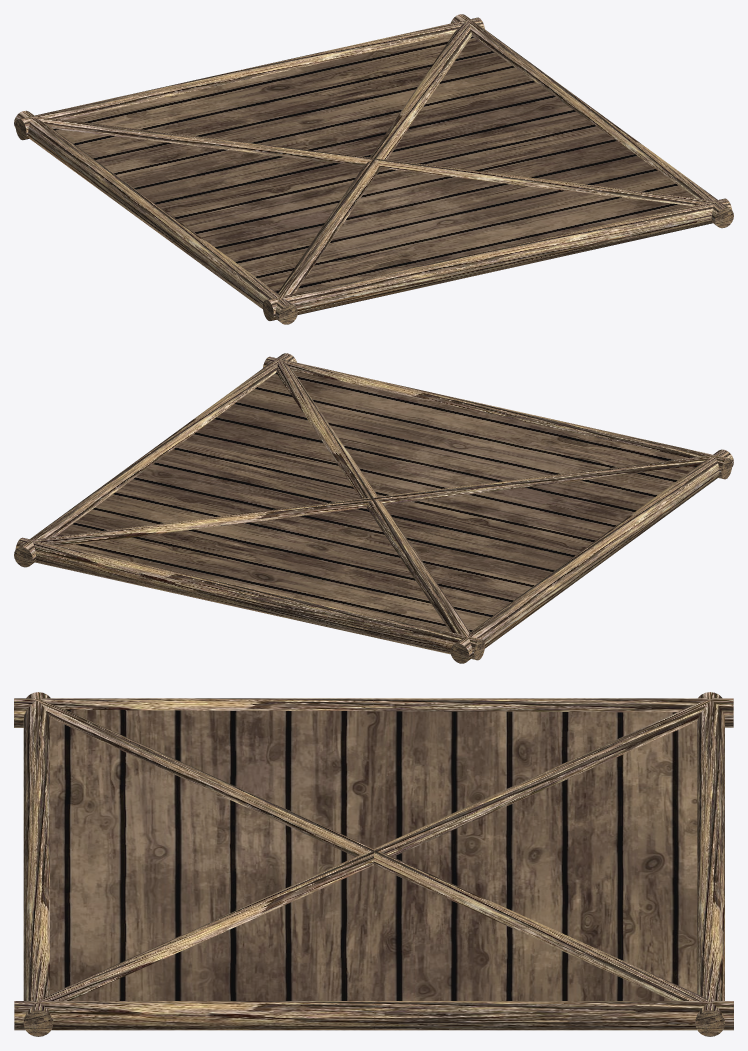
File: wooden roof.gltf
3 renders of one model, top to bottom at view 1: azimuth 30°, elevation 25°; view 2: azimuth 150°, elevation 25°; view 3: azimuth 270°, elevation 25°, orthographic. The views are drawn at different scales.
Parts seen in each view (by area): view 1: Küp, Silindir2 (×3), Silindir3, Silindir1, Silindir; view 2: Küp, Silindir2 (×3), Silindir1, Silindir3, Silindir; view 3: Küp, Silindir2 (×3), Silindir, Silindir3, Silindir1.
Part boxes in pixels (x1,y1,x2,y2): Küp: (53, 34, 695, 293); Silindir2 (×3): (33, 21, 731, 320); Silindir3: (14, 110, 297, 324); Silindir1: (15, 17, 484, 140); Silindir: (451, 14, 733, 228); Küp: (56, 370, 697, 632); Silindir2 (×3): (33, 356, 732, 636); Silindir1: (15, 537, 484, 660); Silindir3: (450, 449, 733, 663); Silindir: (14, 353, 296, 567); Küp: (50, 710, 697, 1000); Silindir2 (×3): (23, 692, 709, 1036); Silindir: (14, 1001, 733, 1030); Silindir3: (14, 698, 733, 727); Silindir1: (695, 692, 724, 1036).
Bounding box in the file's own units: 2.1 × 0.1324 × 2.1.
Materials: 7 (7 with a texture image).
